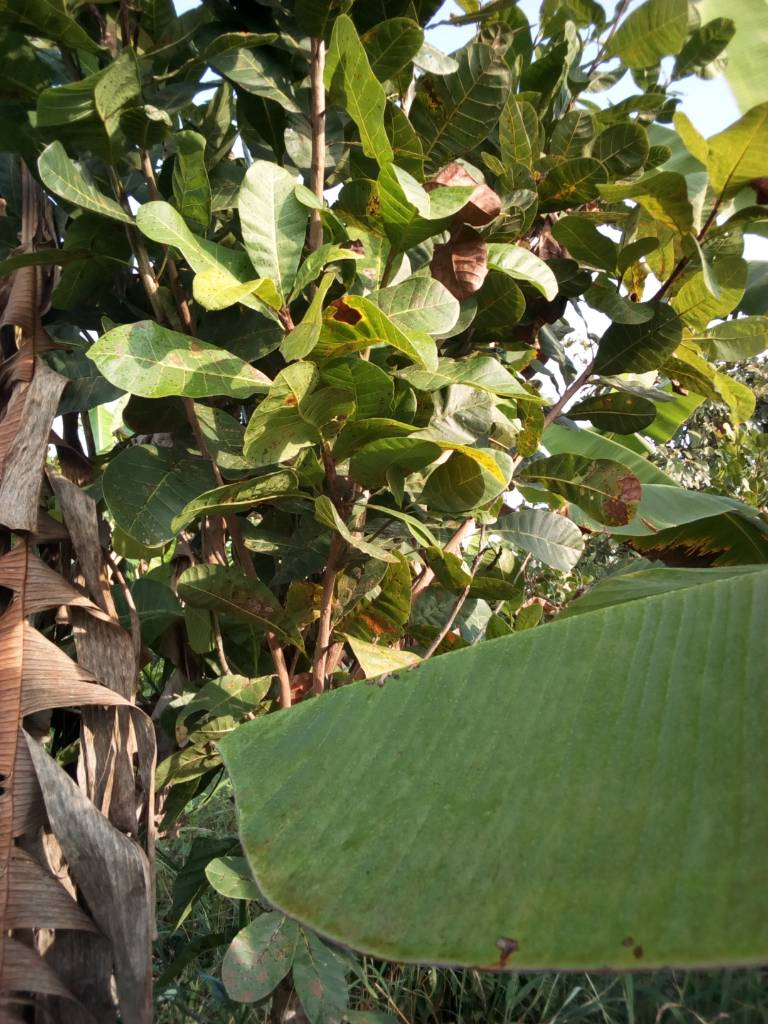Anthracnose: (80, 319, 277, 400), (102, 439, 211, 542)
